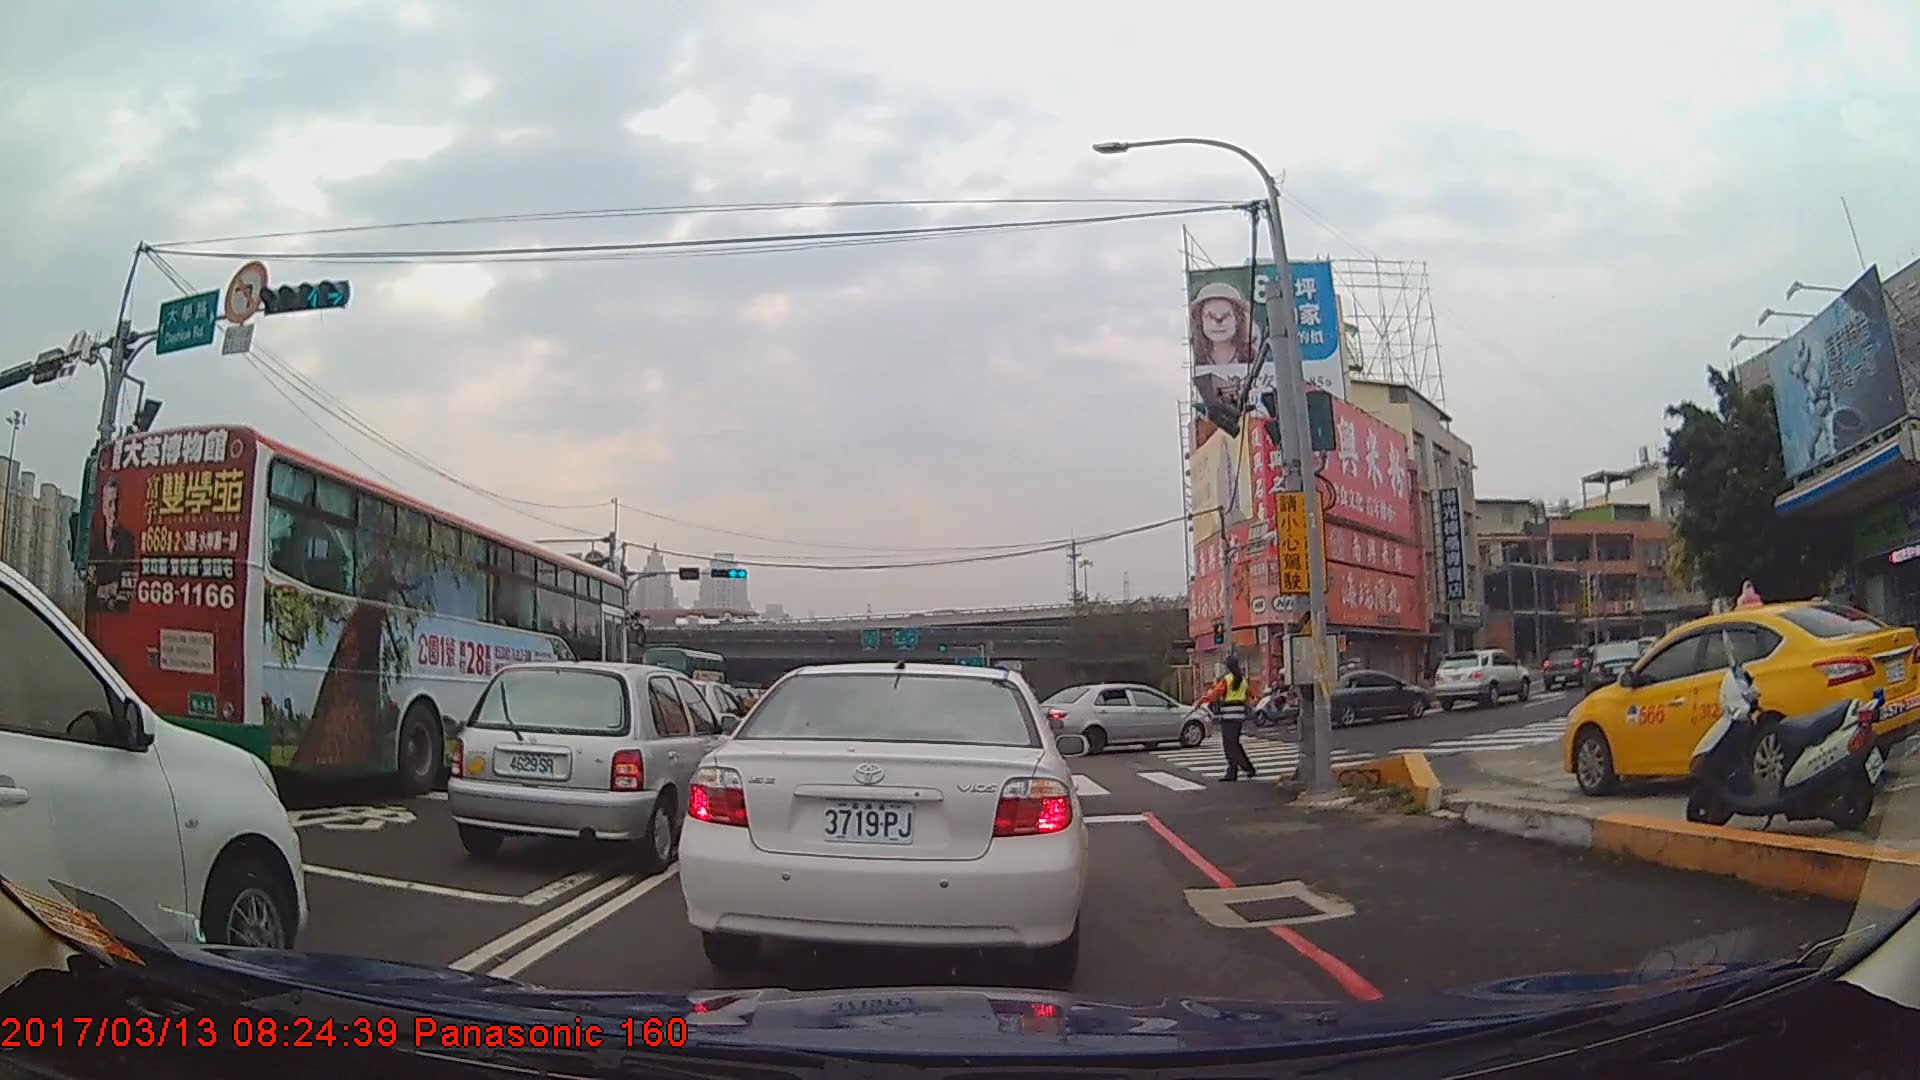pedestrian: (1200, 656, 1256, 787)
rider: (1253, 667, 1302, 725)
vehicle: (80, 417, 638, 806), (673, 661, 1088, 990), (0, 562, 307, 987), (1558, 597, 1920, 797), (448, 658, 747, 868), (1025, 682, 1208, 756), (1288, 667, 1427, 729), (1432, 648, 1530, 710), (1580, 638, 1649, 703), (1542, 644, 1596, 690)
